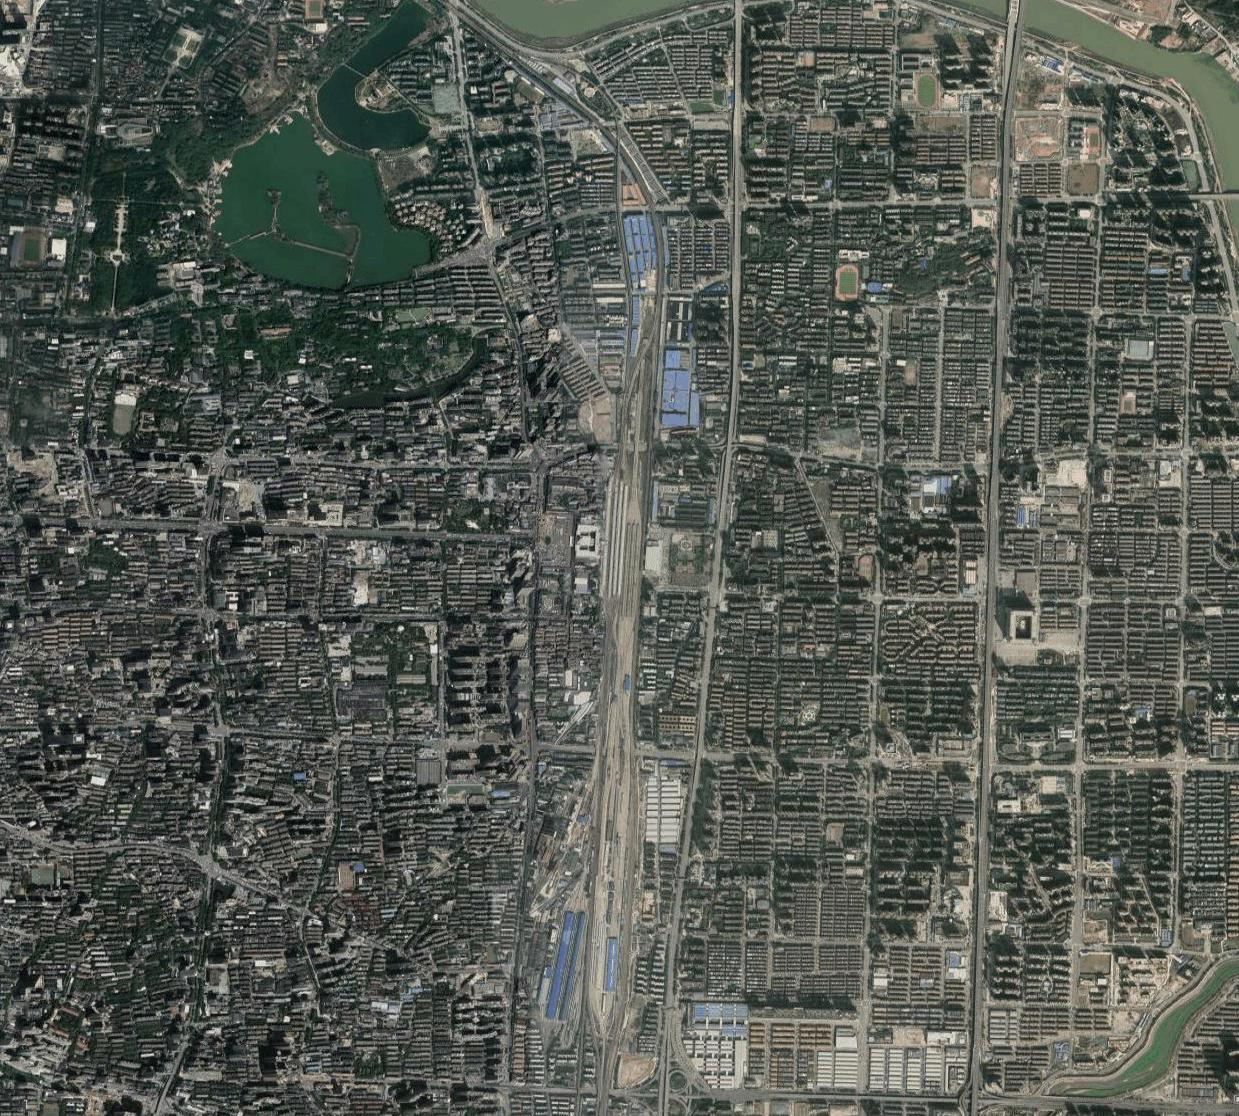train_station: (596, 475, 650, 625)
